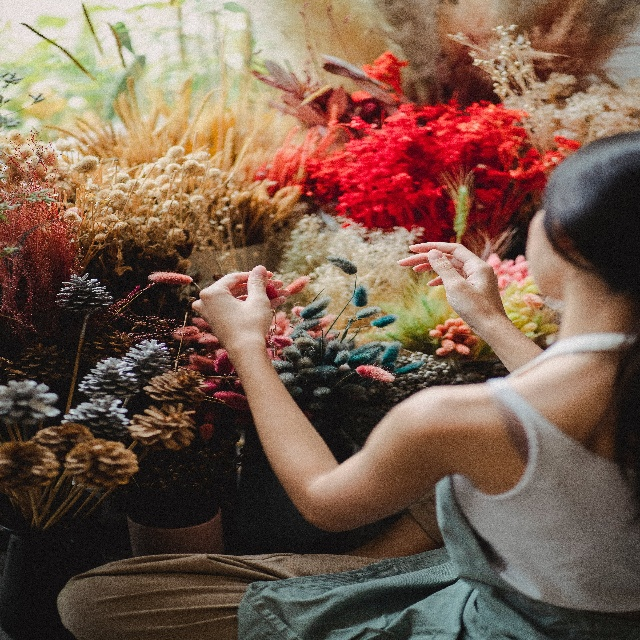Sin_guantes: (396, 241, 508, 329), (194, 268, 275, 354)
